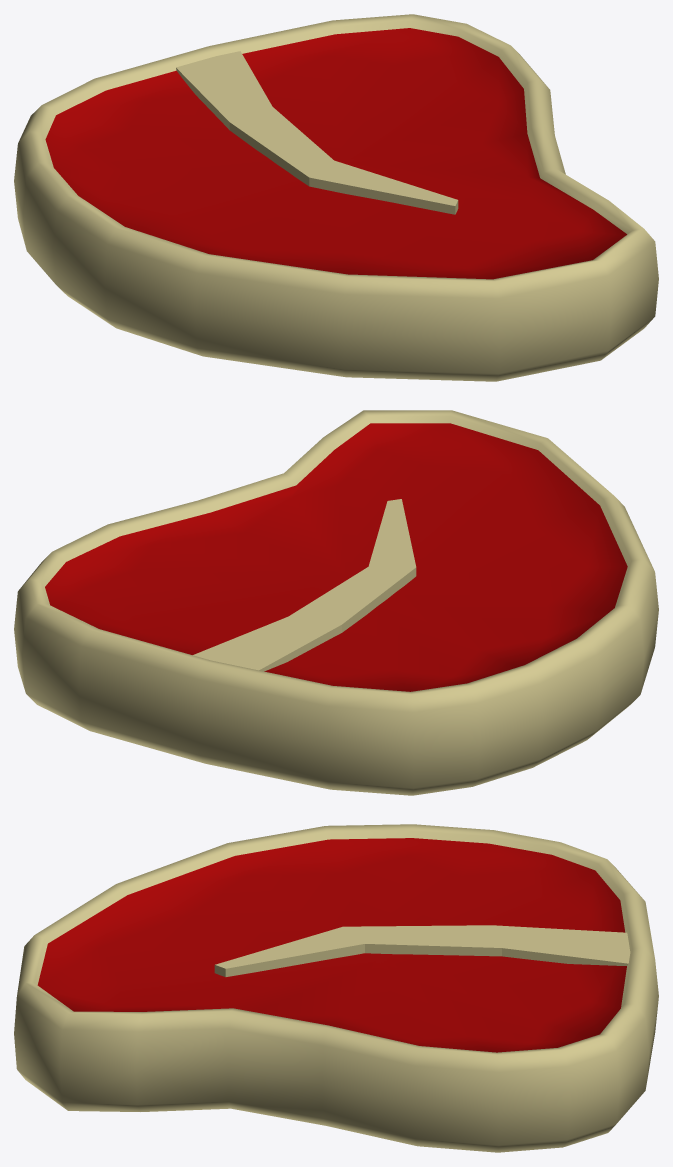
File: Steak1.FBX
The picture shows the model from 3 angles, top to bottom: view 1: azimuth 30°, elevation 25°; view 2: azimuth 150°, elevation 25°; view 3: azimuth 270°, elevation 25°; orthographic projection. The views are drawn at different scales.
Parts seen in each view (by area): view 1: Line002; view 2: Line002; view 3: Line002.
Boxes of the visible parts, x1=… form: Line002: x1=14, y1=14, x2=658, y2=381; Line002: x1=14, y1=410, x2=658, y2=795; Line002: x1=14, y1=824, x2=658, y2=1152.
Size of the model in its own units: 36.02 by 6.7 by 40.24.
